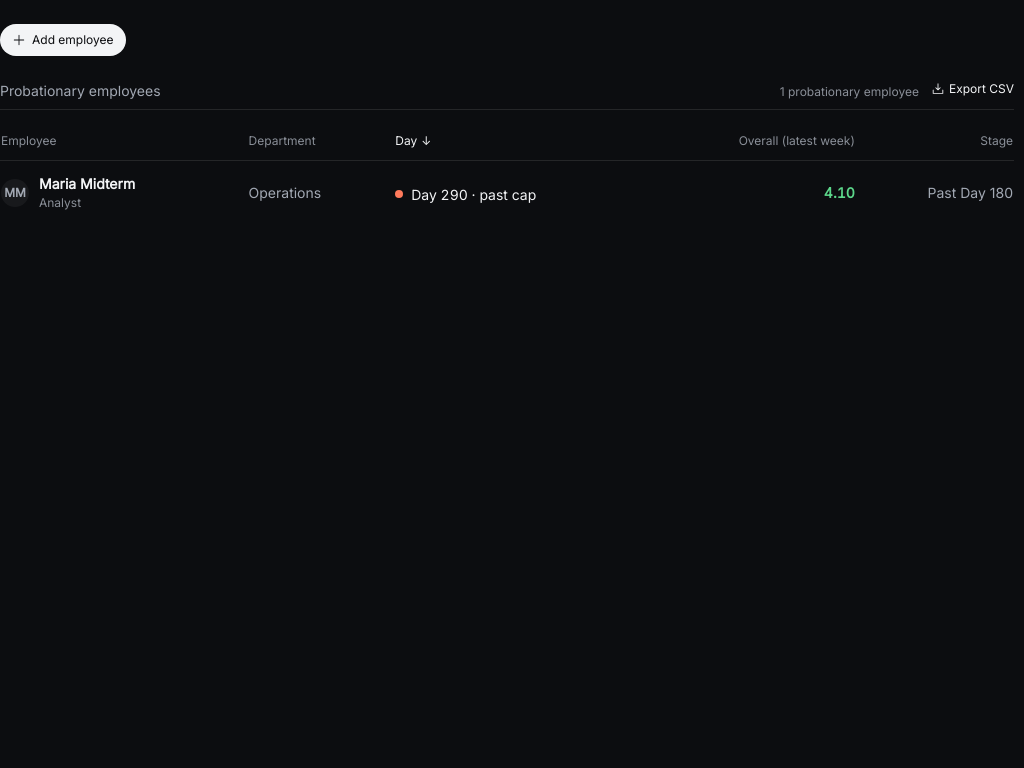
Test: EmployeeSplit › renders the directory and opens the onboarding modal for employers
Check: the link "Maria Midterm" is shown, box [39,173,135,194]
Click the button "Add employee".
click(63, 40)  # box [0,24,126,56]
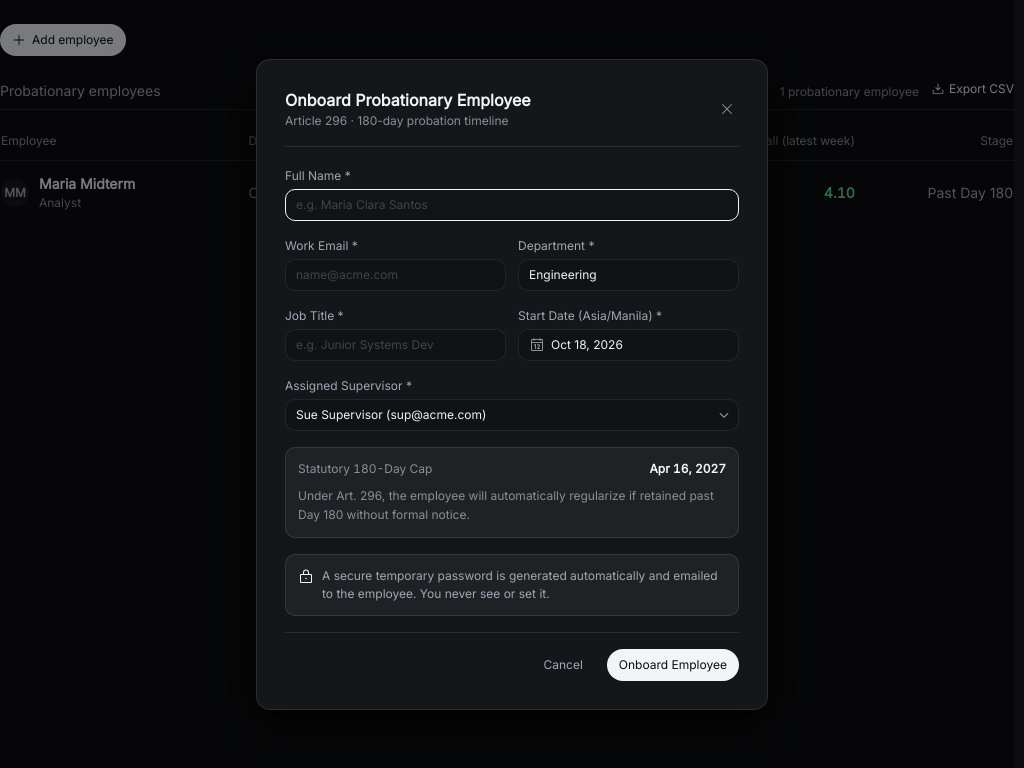
Check: the heading "Onboard Probationary Employee" is shown, box [285,88,531,112]
